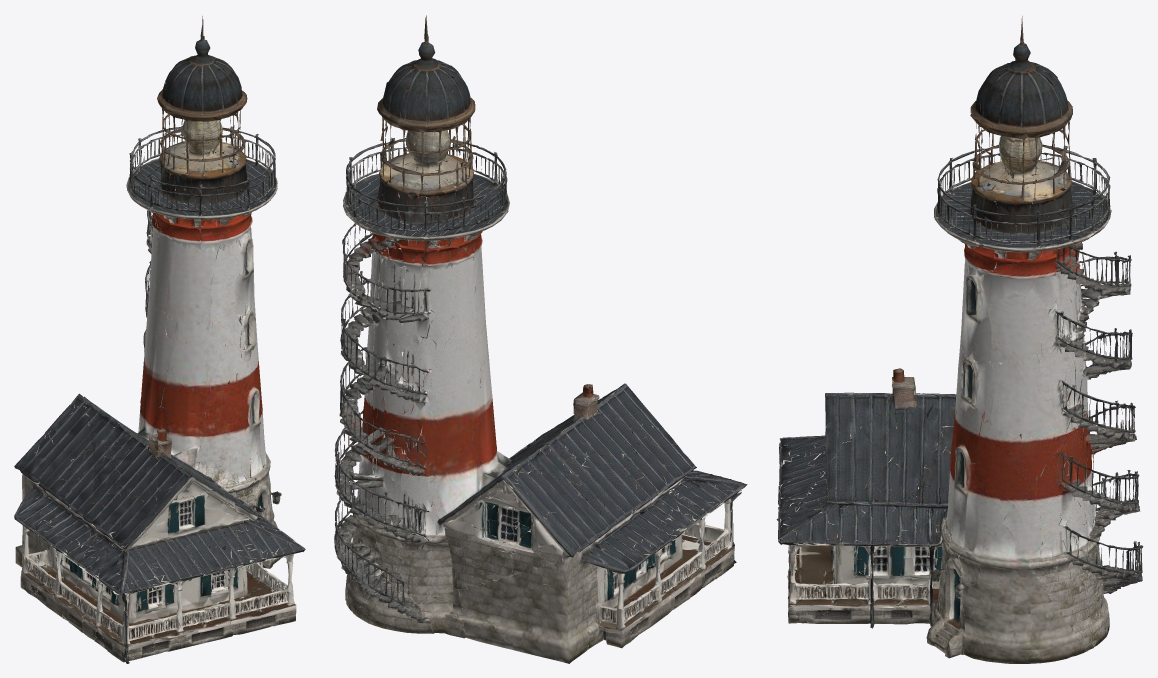
File: lighthouse.glb
3 views of the same model, side by side, from view 1: azimuth 30°, elevation 25°; view 2: azimuth 150°, elevation 25°; view 3: azimuth 270°, elevation 25° (orthographic). The views are drawn at different scales.
Parts seen in each view (by area): view 1: Mesh_0; view 2: Mesh_0; view 3: Mesh_0.
Part boxes in pixels (<box>): Mesh_0: <box>14,16,305,663</box>; Mesh_0: <box>334,15,747,663</box>; Mesh_0: <box>776,16,1143,663</box>.
Size of the model in its own units: 0.9516 by 1.9 by 1.03.
1 material, 1 textured.
